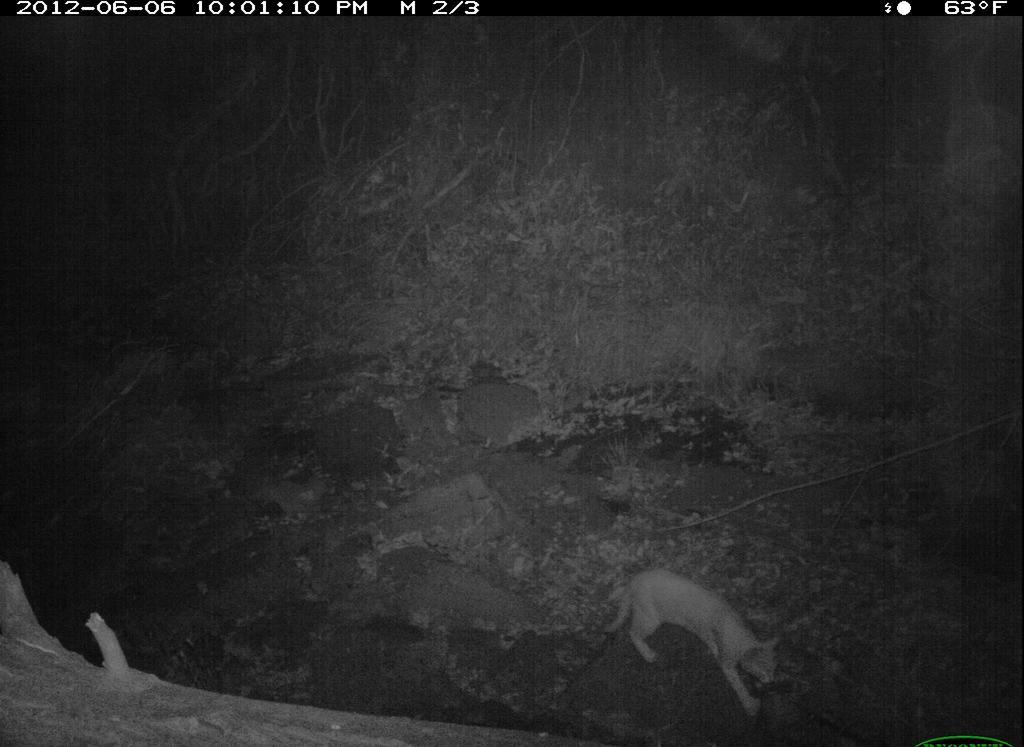cat: (596, 566, 818, 710)
